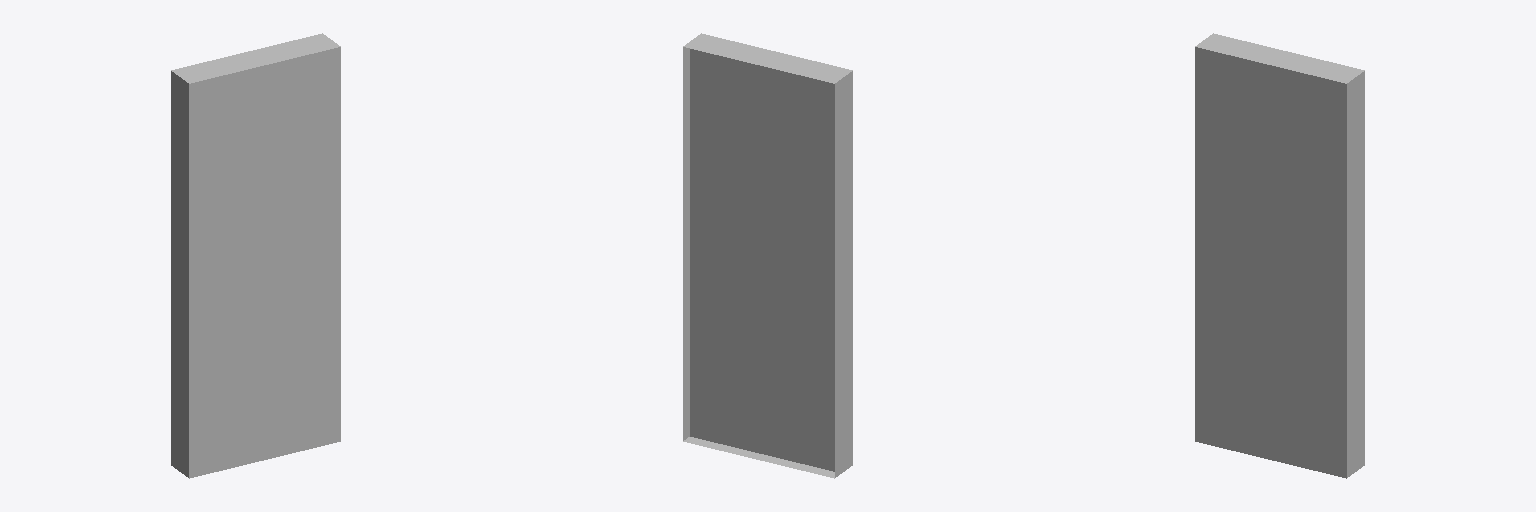
Rendered from window.obj.
3 renders of one model, left to right at view 1: azimuth 30°, elevation 25°; view 2: azimuth 150°, elevation 25°; view 3: azimuth 330°, elevation 25°, orthographic.
Visible parts, largest first — view 1: Cube.001_Cube.004; view 2: Cube.001_Cube.004; view 3: Cube.001_Cube.004.
Part boxes in pixels (x1,y1,x2,y2): Cube.001_Cube.004: (171, 33, 340, 478); Cube.001_Cube.004: (683, 33, 852, 478); Cube.001_Cube.004: (1195, 33, 1364, 478).
Bounding box in the file's own units: 8.45 × 20.98 × 1.77.